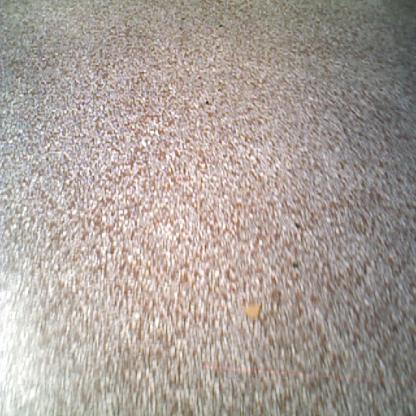dirty: (240, 301, 263, 322)
